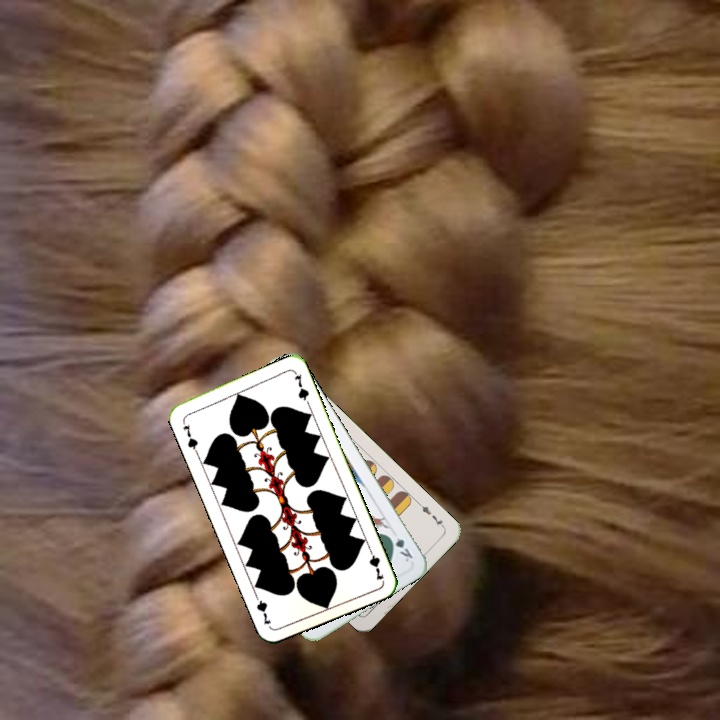E7: (415, 499, 447, 531)
G7: (364, 543, 386, 583), (178, 416, 200, 455)
GK: (384, 531, 416, 564)
